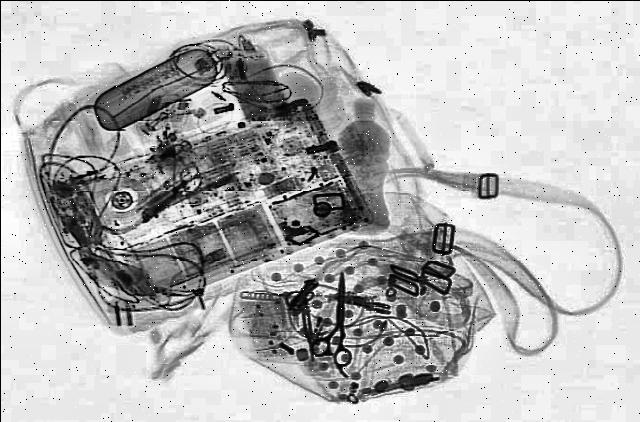Scissors: (309, 270, 363, 364)
